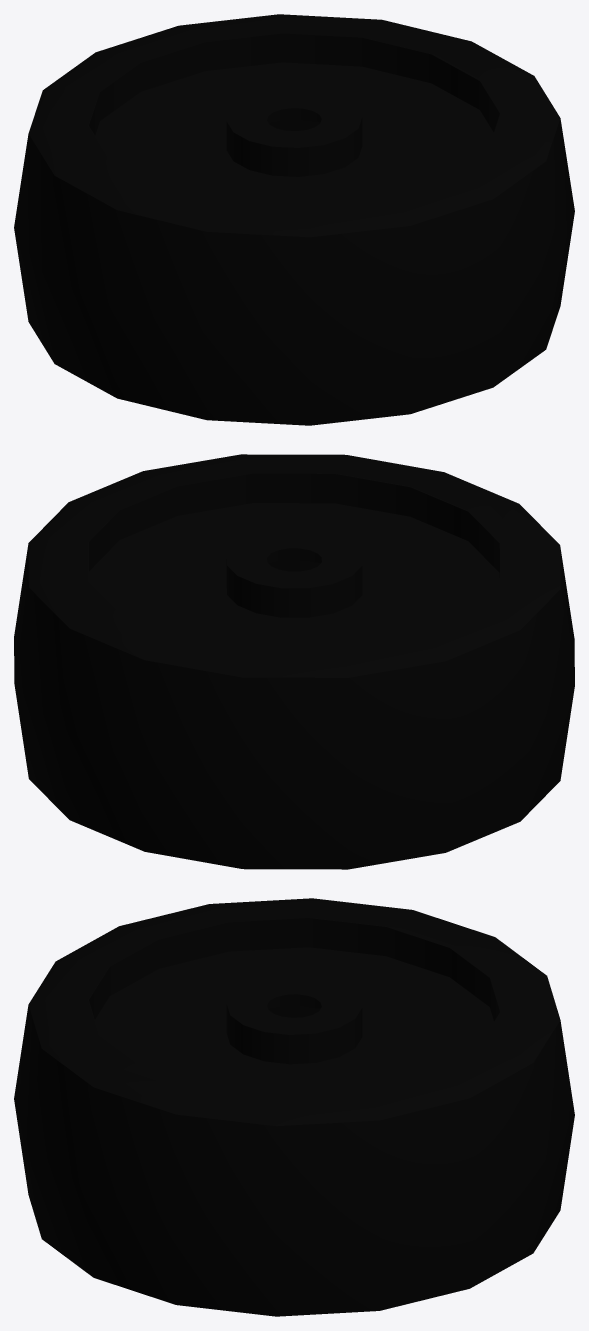
File: tire.obj
The picture shows the model from 3 angles, top to bottom: view 1: azimuth 30°, elevation 25°; view 2: azimuth 150°, elevation 25°; view 3: azimuth 270°, elevation 25°; orthographic projection.
Size of the model in its own units: 0.0637 by 0.0251 by 0.0628.
